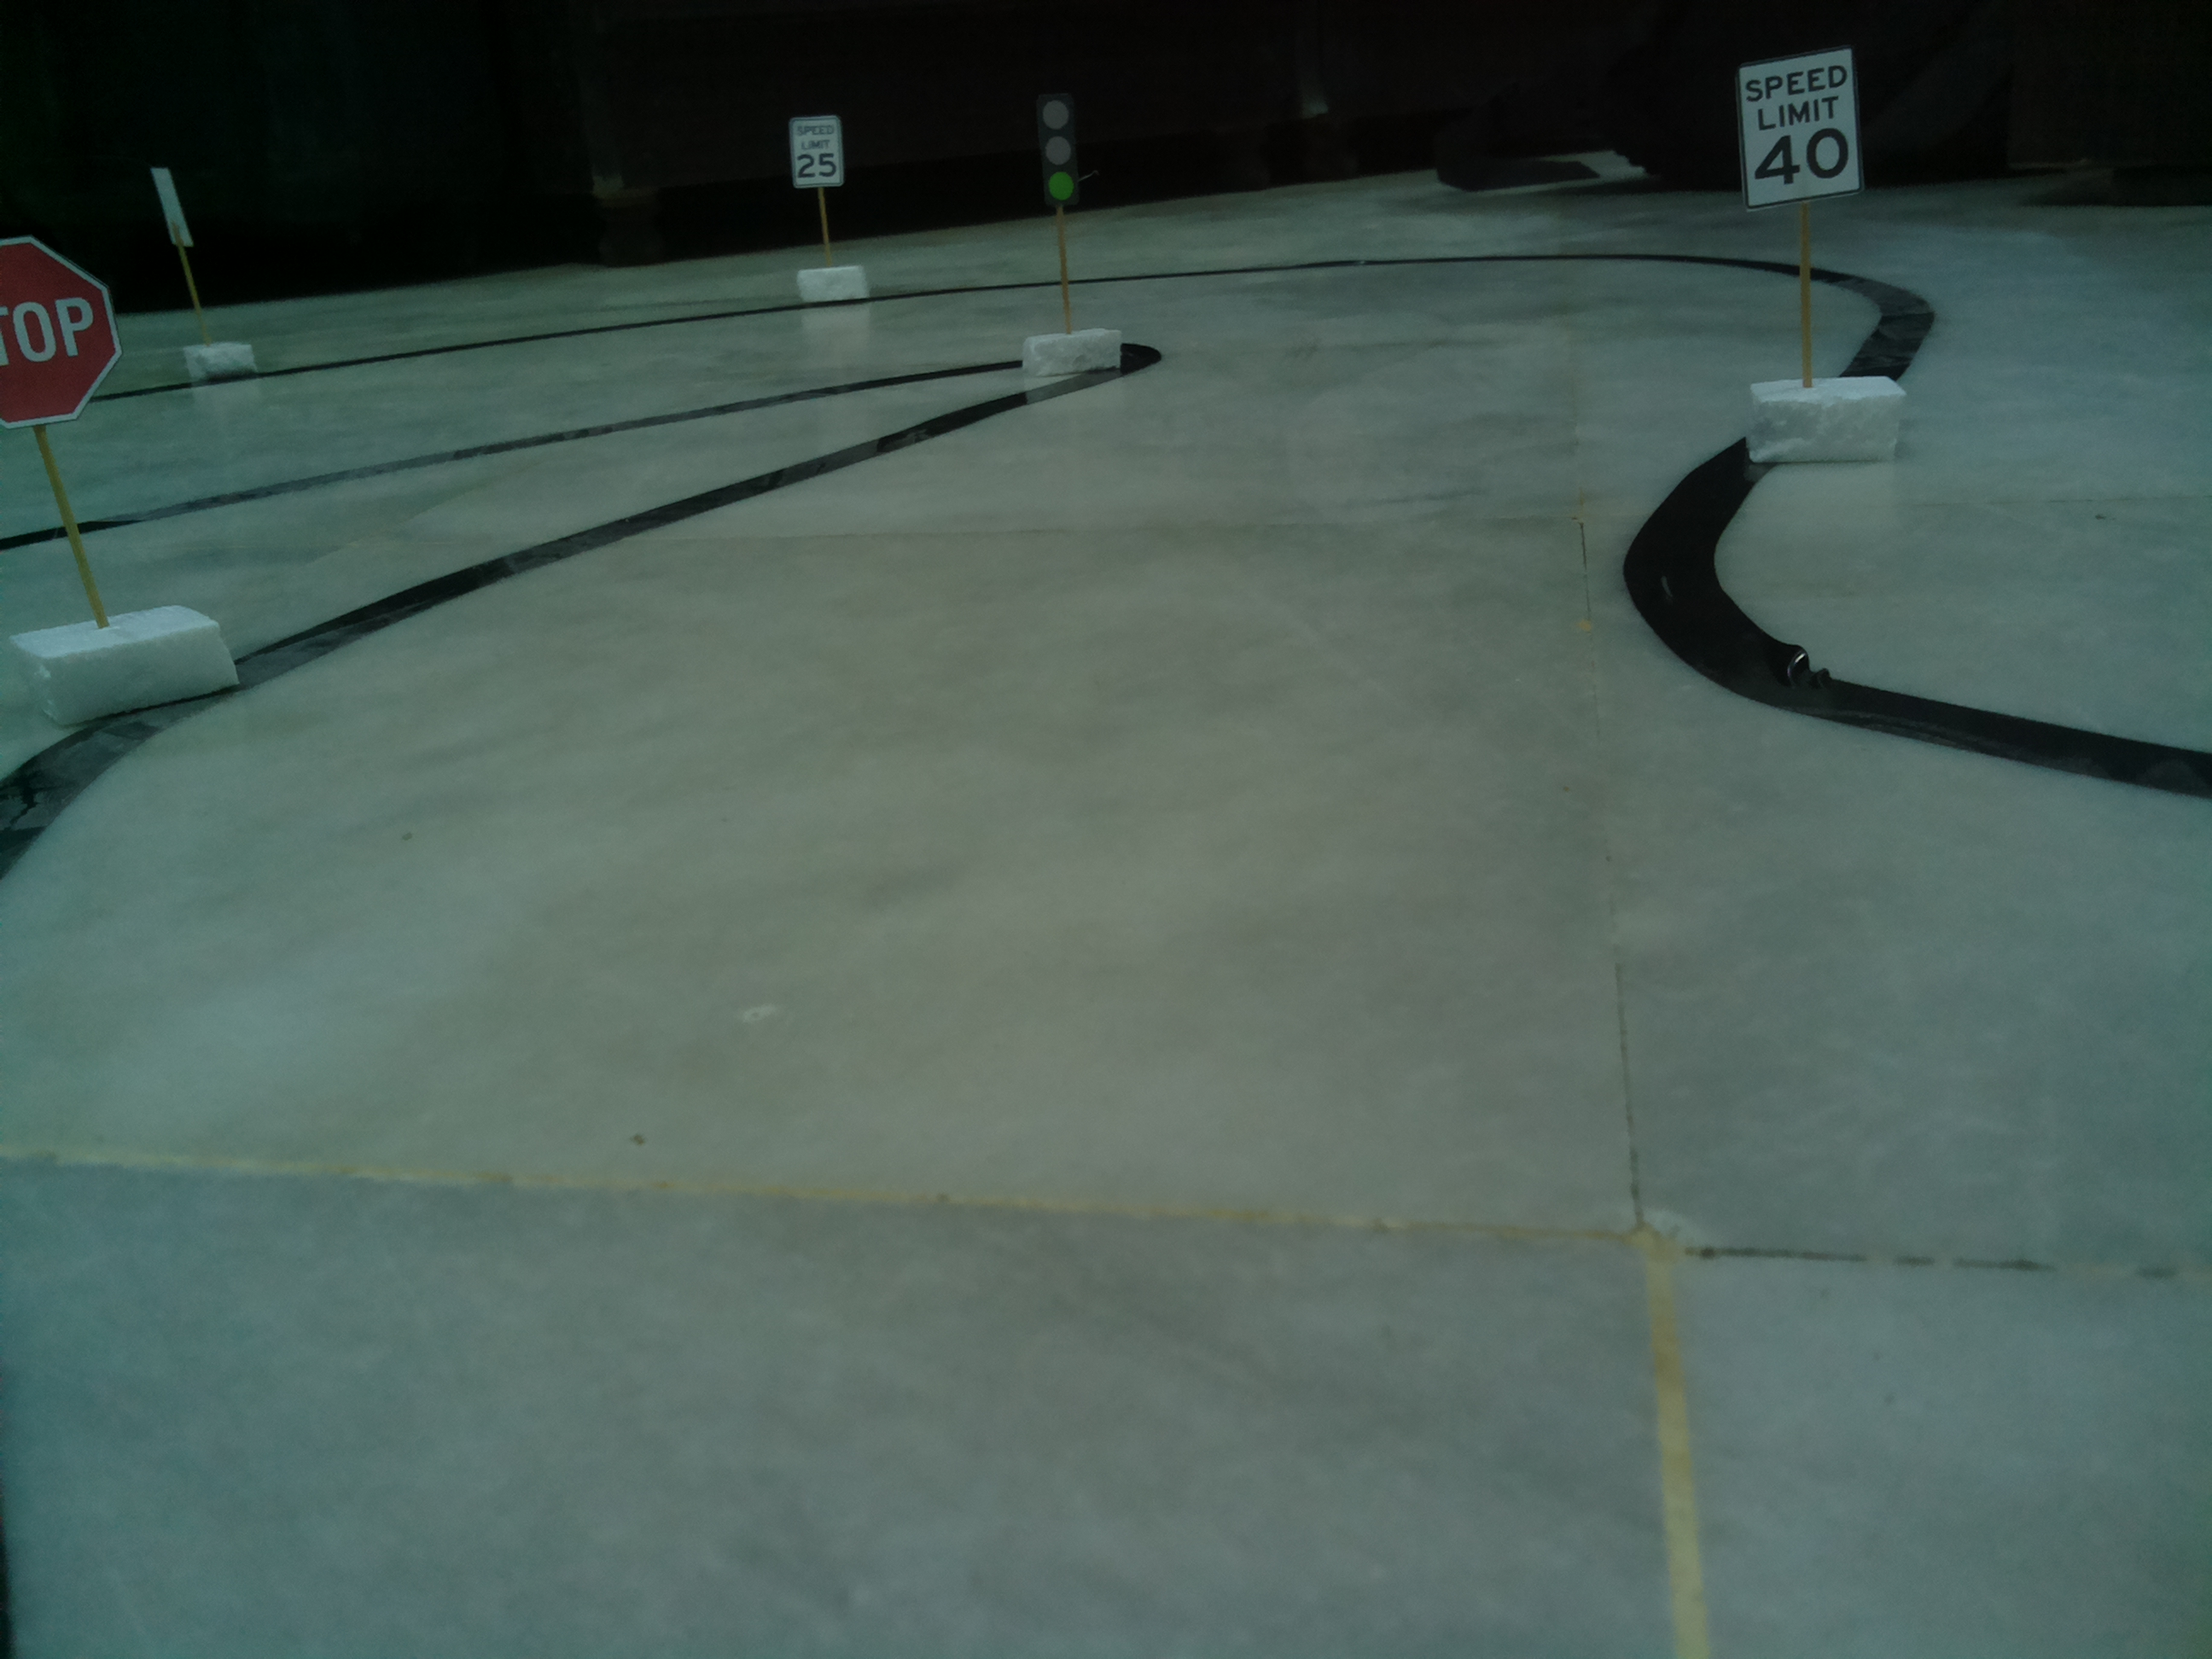Green traffic light: (1035, 98, 1089, 207)
Speed limit 25: (787, 110, 845, 186)
Speed limit 40: (1731, 45, 1865, 213)
Stop sign: (2, 234, 124, 437)
